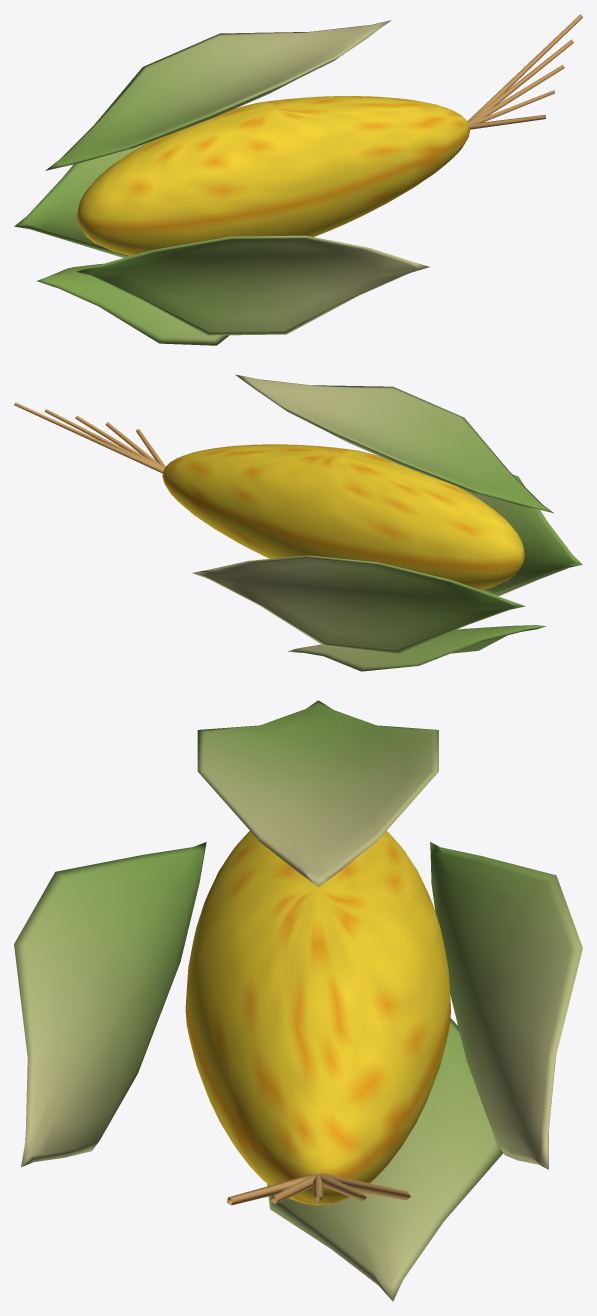
File: Corn.glb
3 views of the same model, one above another, from view 1: azimuth 30°, elevation 25°; view 2: azimuth 150°, elevation 25°; view 3: azimuth 270°, elevation 25° (orthographic). The views are drawn at different scales.
Visible parts, largest first — view 1: Husk, Cob, Silk; view 2: Husk, Cob, Silk; view 3: Husk, Cob, Silk.
Part boxes in pixels (box(x1,y1,x2,y2)): Husk: box(14, 20, 429, 345); Cob: box(76, 96, 469, 255); Silk: box(467, 14, 582, 129); Husk: box(192, 374, 582, 671); Cob: box(162, 444, 524, 590); Silk: box(14, 402, 165, 473); Husk: box(14, 700, 582, 1301); Cob: box(185, 830, 450, 1205); Silk: box(226, 1173, 410, 1205).
Size of the model in its own units: 0.1592 by 0.0731 by 0.0771.
